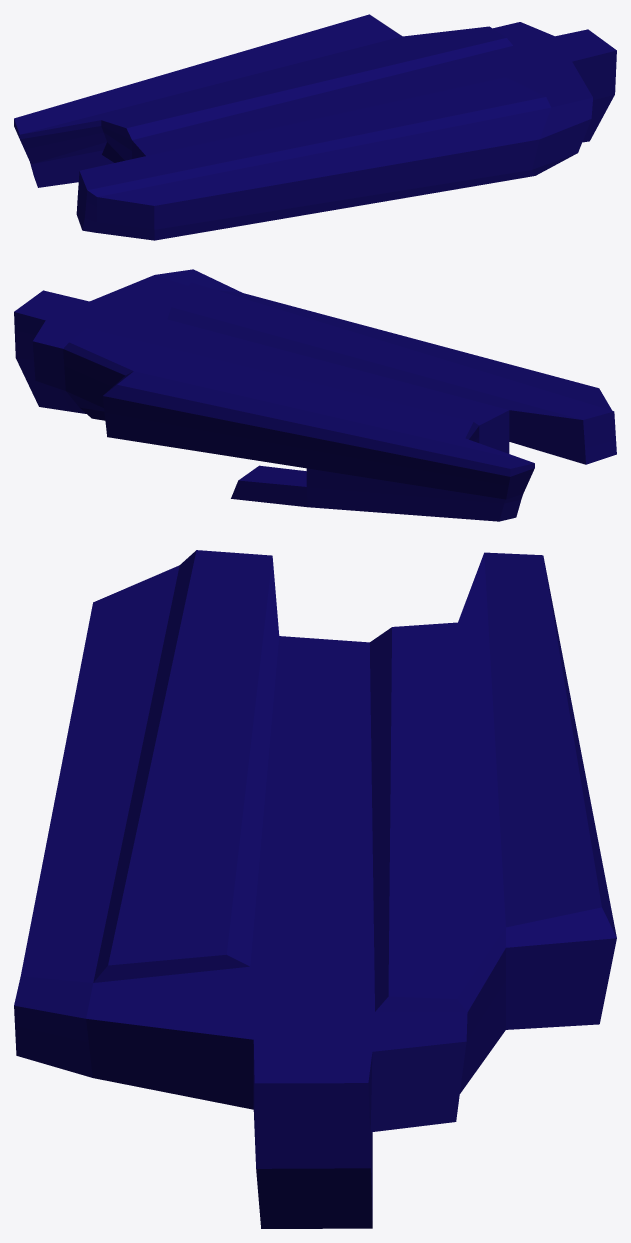
File: Joel Crystal 1.FBX
3 renders of one model, top to bottom at view 1: azimuth 30°, elevation 25°; view 2: azimuth 150°, elevation 25°; view 3: azimuth 270°, elevation 25°, orthographic. The views are drawn at different scales.
Parts seen in each view (by area): view 1: Bridge_rework_1_notwalk; view 2: Bridge_rework_1_notwalk; view 3: Bridge_rework_1_notwalk.
Part boxes in pixels (x1=…): Bridge_rework_1_notwalk: x1=14, y1=14, x2=616, y2=240; Bridge_rework_1_notwalk: x1=14, y1=269, x2=616, y2=521; Bridge_rework_1_notwalk: x1=14, y1=550, x2=616, y2=1228.
Size of the model in its own units: 3065 by 517 by 1475.
